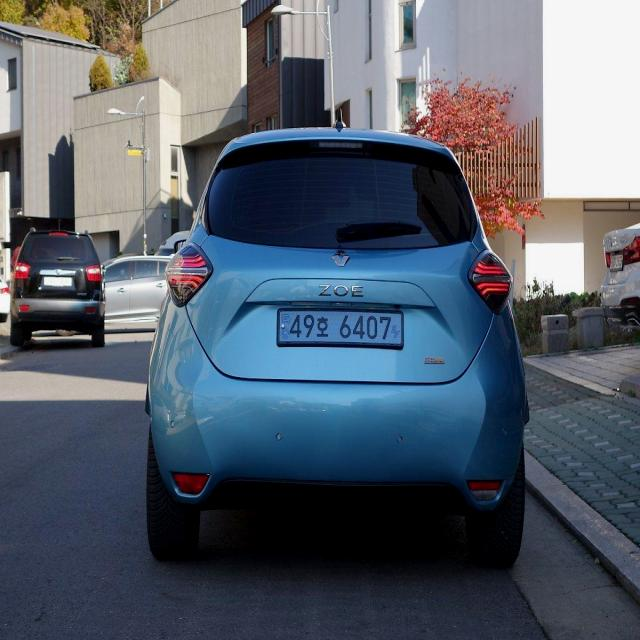EV_plate: (272, 302, 408, 359)
car: (145, 107, 530, 562)
